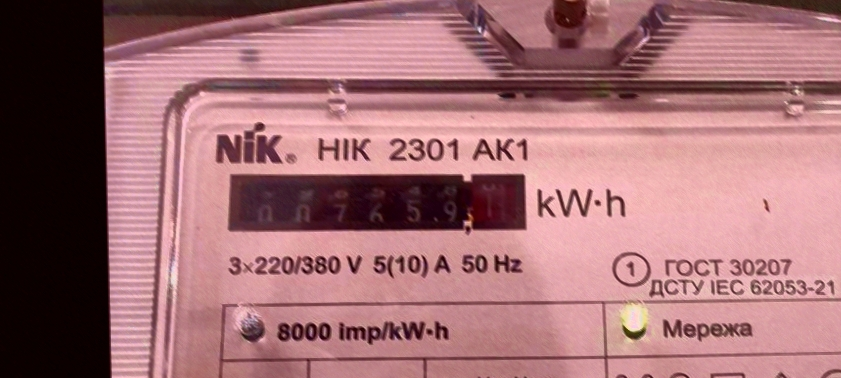0: (293, 200, 313, 226), (255, 200, 274, 227)
1: (482, 189, 497, 222)
5: (402, 196, 425, 223)
6: (366, 200, 386, 224)
7: (329, 201, 350, 226)
9: (440, 197, 459, 225)
screen: (218, 156, 537, 252)
